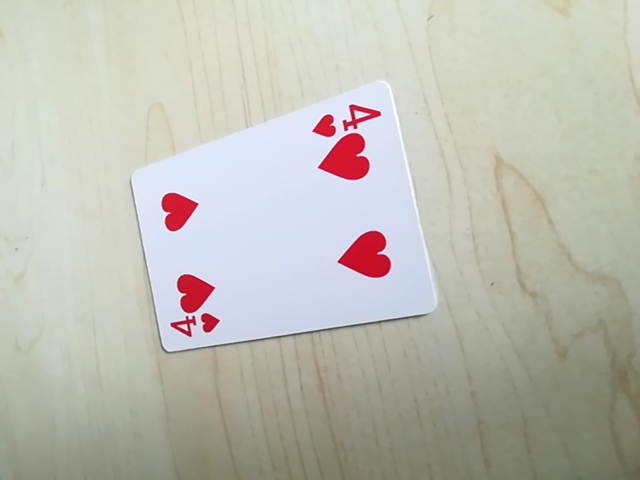hx 4: (308, 97, 388, 136), (160, 310, 228, 344)
